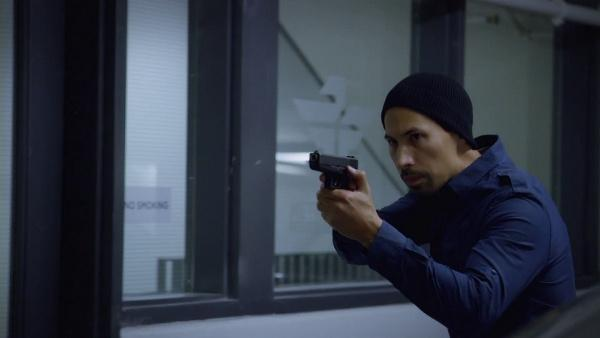Gun: (309, 151, 362, 191)
